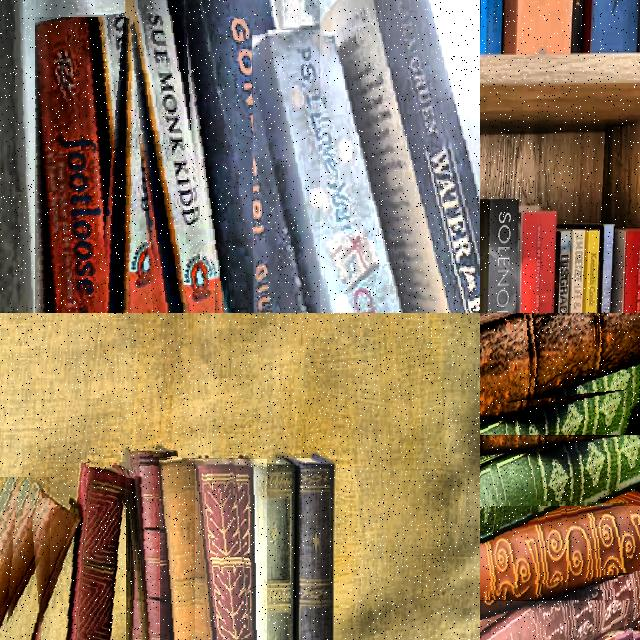Books: (320, 0, 480, 313), (188, 0, 327, 313), (253, 30, 398, 313), (36, 18, 131, 313), (128, 0, 215, 313), (480, 436, 640, 562), (480, 507, 640, 632), (480, 313, 640, 424), (277, 455, 335, 640), (66, 463, 125, 640), (195, 460, 252, 640), (0, 478, 58, 640), (160, 458, 211, 640), (134, 451, 177, 640), (253, 460, 295, 640), (480, 199, 519, 313), (519, 212, 557, 313), (589, 0, 638, 53), (612, 229, 640, 313), (597, 224, 614, 313), (568, 229, 586, 313), (582, 229, 600, 313), (555, 231, 570, 313), (480, 0, 503, 53), (570, 0, 582, 53)
